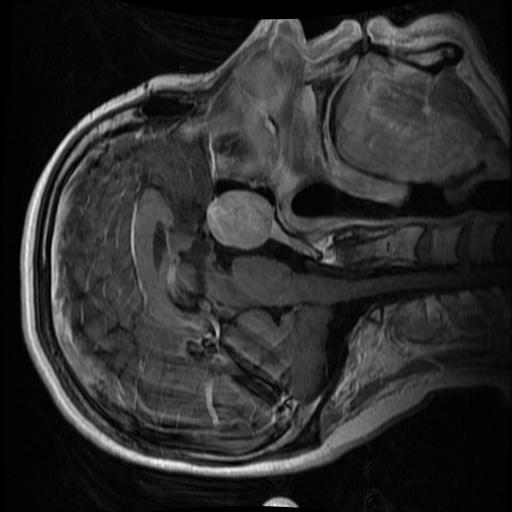pituitary tumour: (207, 191, 274, 250)
